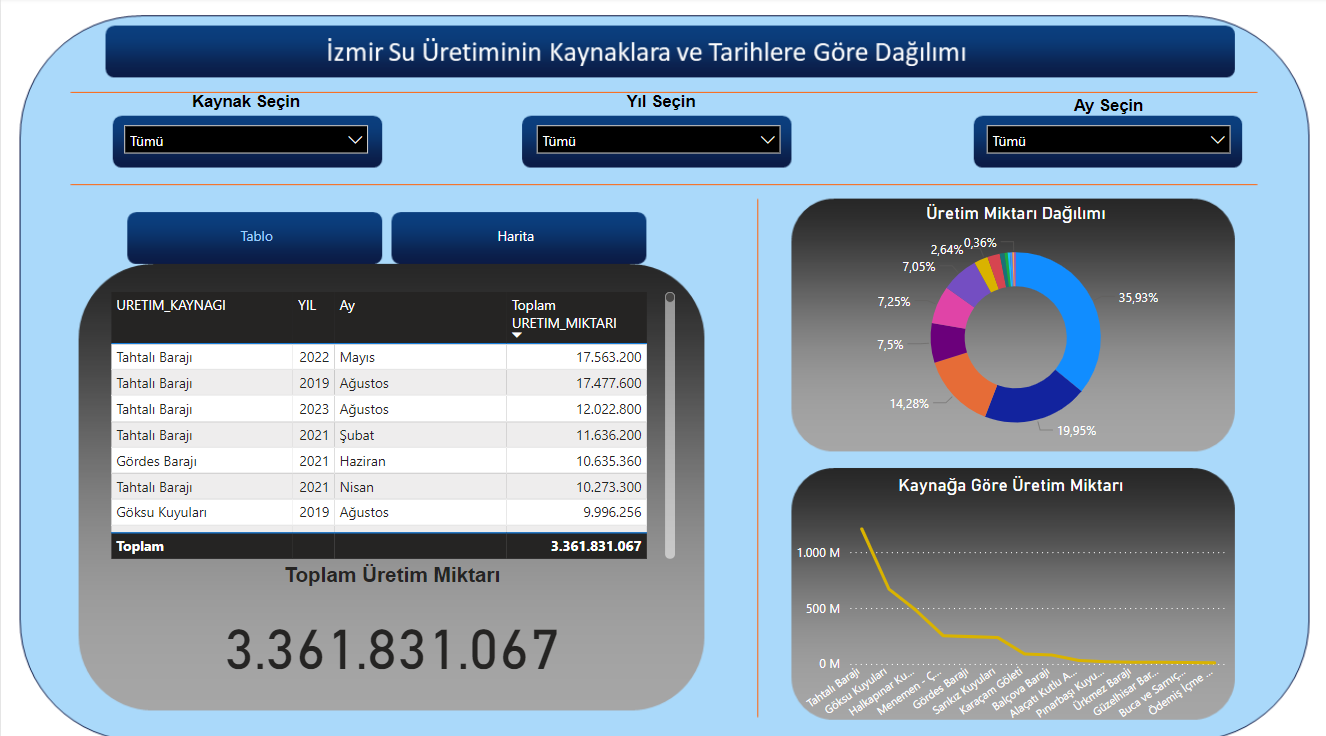

The dashboard page shown, as its layout file describes it:
{"tool":"powerbi","page":{"name":"1. sayfa","canvas":[1280,720],"ordinal":0},"visuals":[{"type":"slicer","fields":{"Values":["İzmir.URETIM_KAYNAGI"]},"box":[108.5,113.4,255.7,43.4],"z":0},{"type":"slicer","fields":{"Values":["İzmir.YIL"]},"box":[506.5,113.4,255.7,43.4],"z":1000},{"type":"slicer","fields":{"Values":["İzmir.Ay"]},"box":[940.7,113.4,255.7,43.4],"z":2000},{"type":"donutChart","title":"Üretim Miktarı Dağılımı","fields":{"Y":["Sum(İzmir.URETIM_MIKTARI)"],"Category":["İzmir.URETIM_KAYNAGI"]},"box":[762.2,197.8,434.2,242.4],"z":3000},{"type":"lineChart","title":"Kaynağa Göre Üretim Miktarı","fields":{"Category":["İzmir.URETIM_KAYNAGI"],"Y":["Sum(İzmir.URETIM_MIKTARI)"]},"box":[762.2,459.5,424.5,247.2],"z":4000},{"type":"tableEx","fields":{"Values":["İzmir.URETIM_KAYNAGI","İzmir.YIL","İzmir.Ay","Sum(İzmir.URETIM_MIKTARI)"]},"box":[100.2,279.7,555.1,267.1],"z":6000},{"type":"card","title":"Toplam Üretim Miktarı","fields":{"Values":["Sum(İzmir.URETIM_MIKTARI)"]},"box":[160,546.8,434.1,135],"z":7000},{"type":"bookmarkNavigator","box":[126.4,211.3,491.8,39.8],"z":8000},{"type":"textbox","box":[166.4,86.8,139.9,36.2],"z":8001},{"type":"textbox","box":[551.2,86.8,171.3,35],"z":8002},{"type":"textbox","box":[974.5,90.5,188.1,36.2],"z":8003}]}

Visuals, with their boxes in screenshot pixels (x1, y1, x2, y2), scaled from the page's 1280x720 canvas onto the 1326x736 screenshot:
slicer - İzmir.URETIM_KAYNAGI: (left=112, top=116, right=377, bottom=160)
slicer - İzmir.YIL: (left=525, top=116, right=790, bottom=160)
slicer - İzmir.Ay: (left=975, top=116, right=1239, bottom=160)
"Üretim Miktarı Dağılımı" donutChart: (left=790, top=202, right=1239, bottom=450)
"Kaynağa Göre Üretim Miktarı" lineChart: (left=790, top=470, right=1229, bottom=722)
tableEx - İzmir.URETIM_KAYNAGI x İzmir.YIL: (left=104, top=286, right=679, bottom=559)
"Toplam Üretim Miktarı" card: (left=166, top=559, right=615, bottom=697)
bookmarkNavigator: (left=131, top=216, right=640, bottom=257)
textbox: (left=172, top=89, right=317, bottom=126)
textbox: (left=571, top=89, right=748, bottom=125)
textbox: (left=1010, top=93, right=1204, bottom=130)
